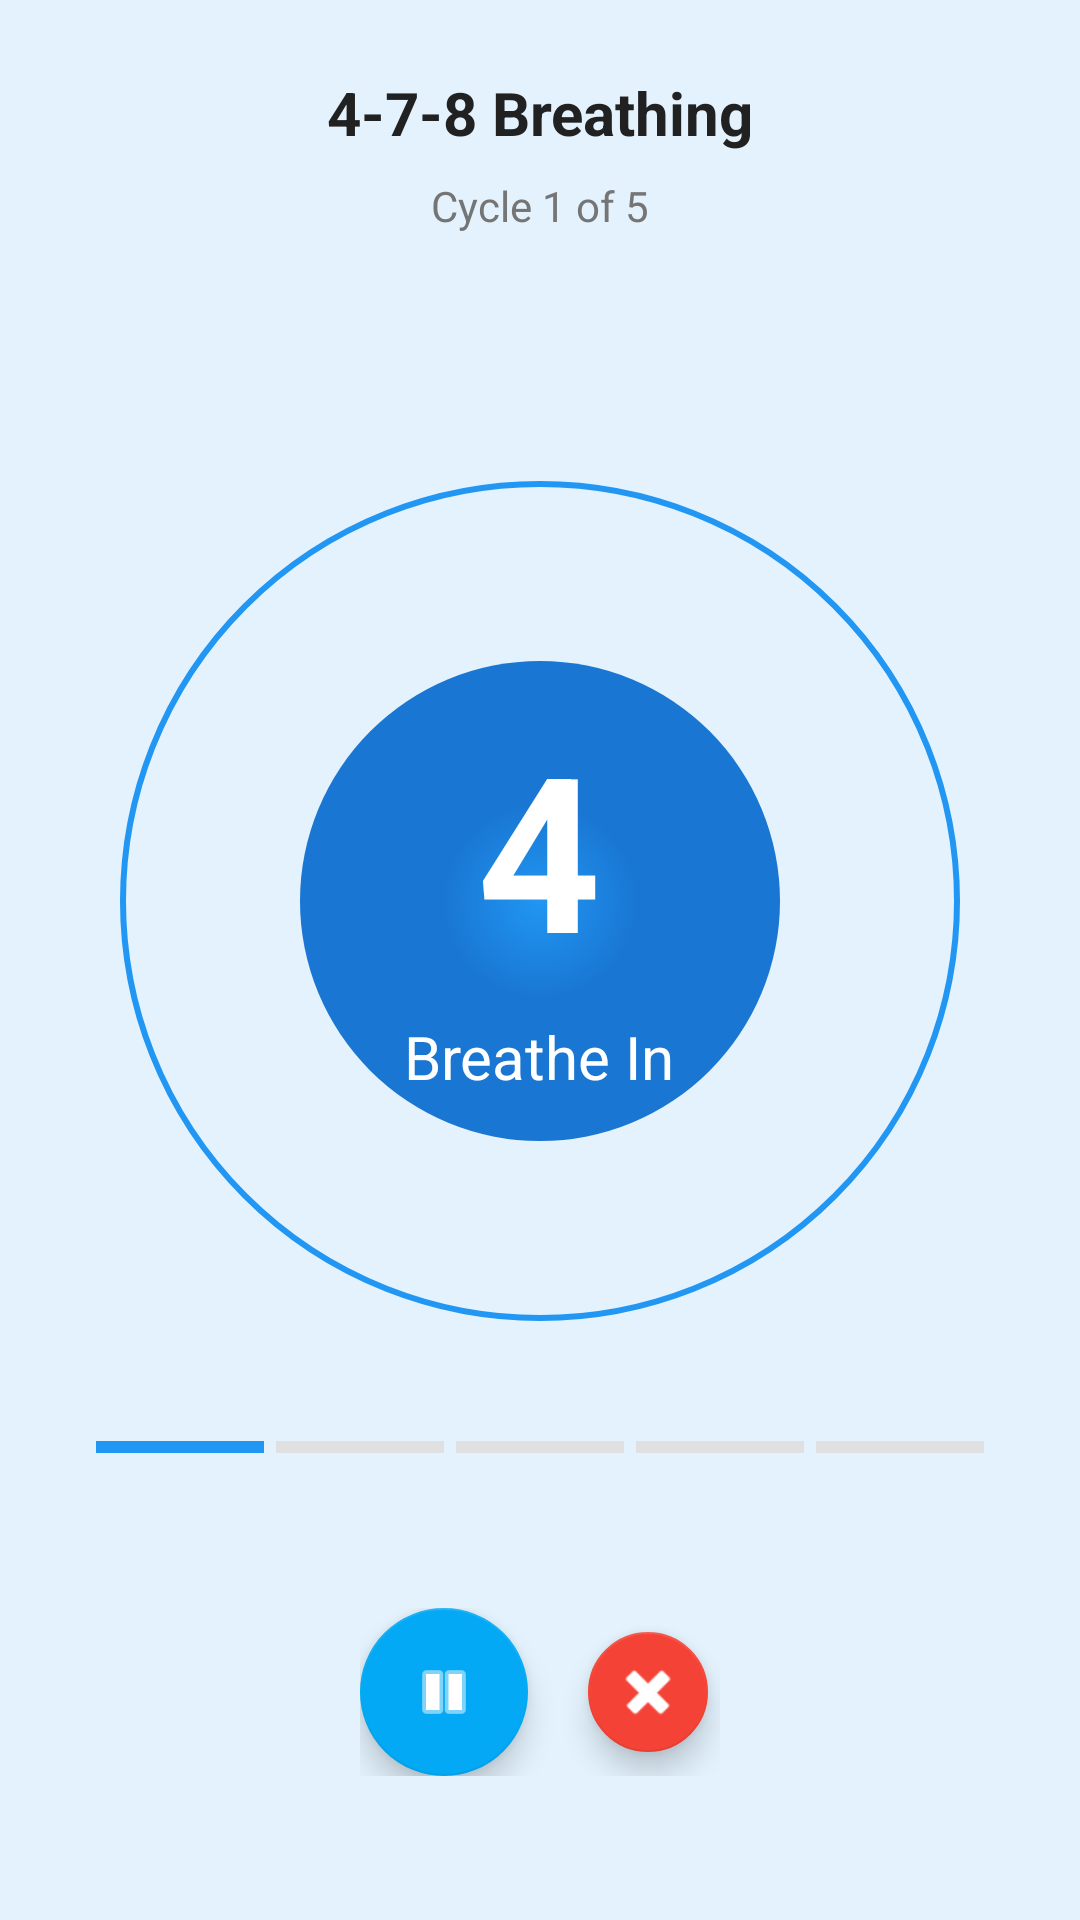

Where icons sit on this 1080×1920 app screen, as (x1, y1, x2, y2):
Pause: (360, 1608, 528, 1776)
